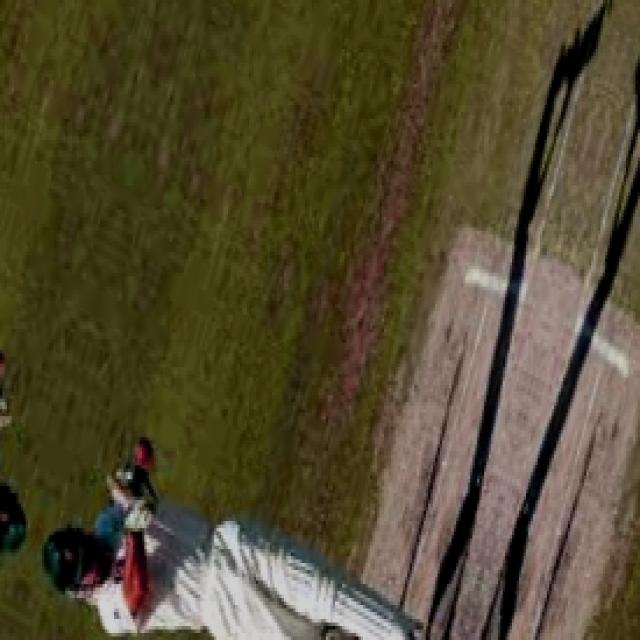toe: (195, 528, 210, 552)
